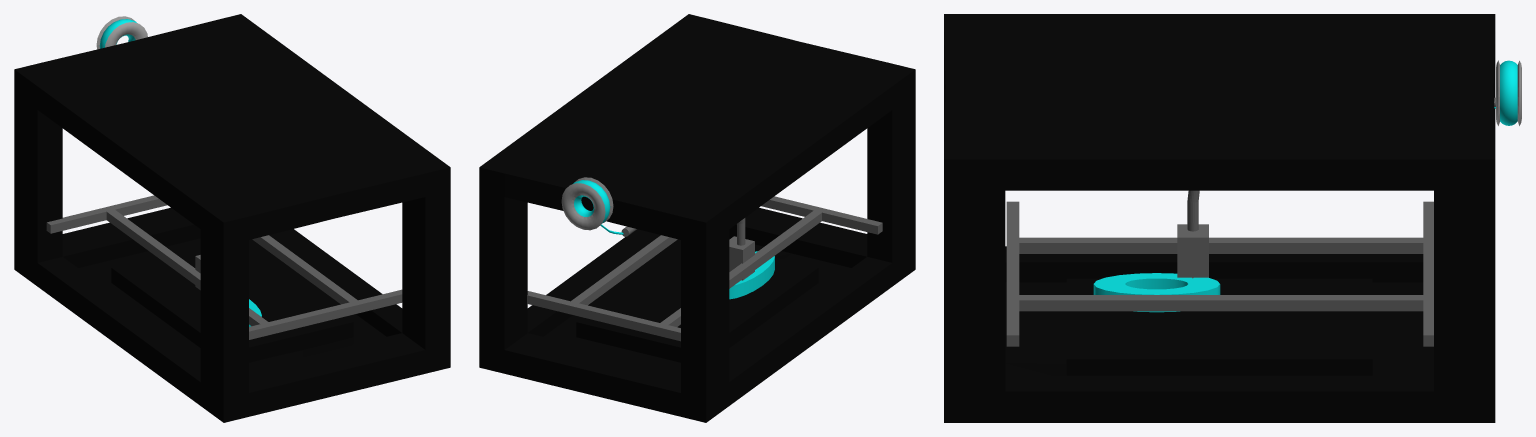
The model's file is 3dprinter.fbx.
3 renders of one model, left to right at view 1: azimuth 30°, elevation 25°; view 2: azimuth 150°, elevation 25°; view 3: azimuth 270°, elevation 25°, orthographic. The views are drawn at different scales.
Parts seen in each view (by area): view 1: pCube1, pCube7, pTorus1; view 2: pCube1, pCube7, pTorus1, pCylinder6, pPipe1; view 3: pCube1, pCube7, pPipe1, pCylinder6, pTorus1.
Part boxes in pixels (x1,y1,x2,y2): pCube1: (14,14,450,422); pCube7: (46,195,402,339); pTorus1: (96,16,147,49); pCube1: (479,14,915,422); pCube7: (527,196,882,341); pTorus1: (561,177,613,230); pCylinder6: (621,218,754,280); pPipe1: (729,251,774,299); pCube1: (944,14,1495,422); pCube7: (1006,201,1433,346); pPipe1: (1093,273,1220,312); pCylinder6: (1177,97,1495,278); pTorus1: (1496,60,1521,125).
Size of the model in its own units: 13.32 by 12.25 by 22.34.
